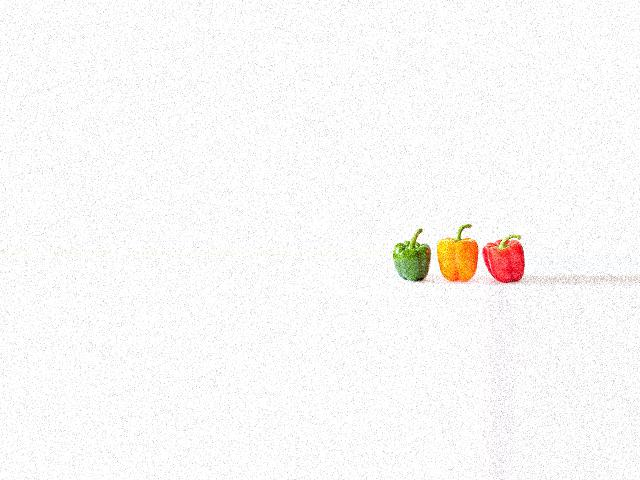bell_pepper: (481, 224, 527, 281)
